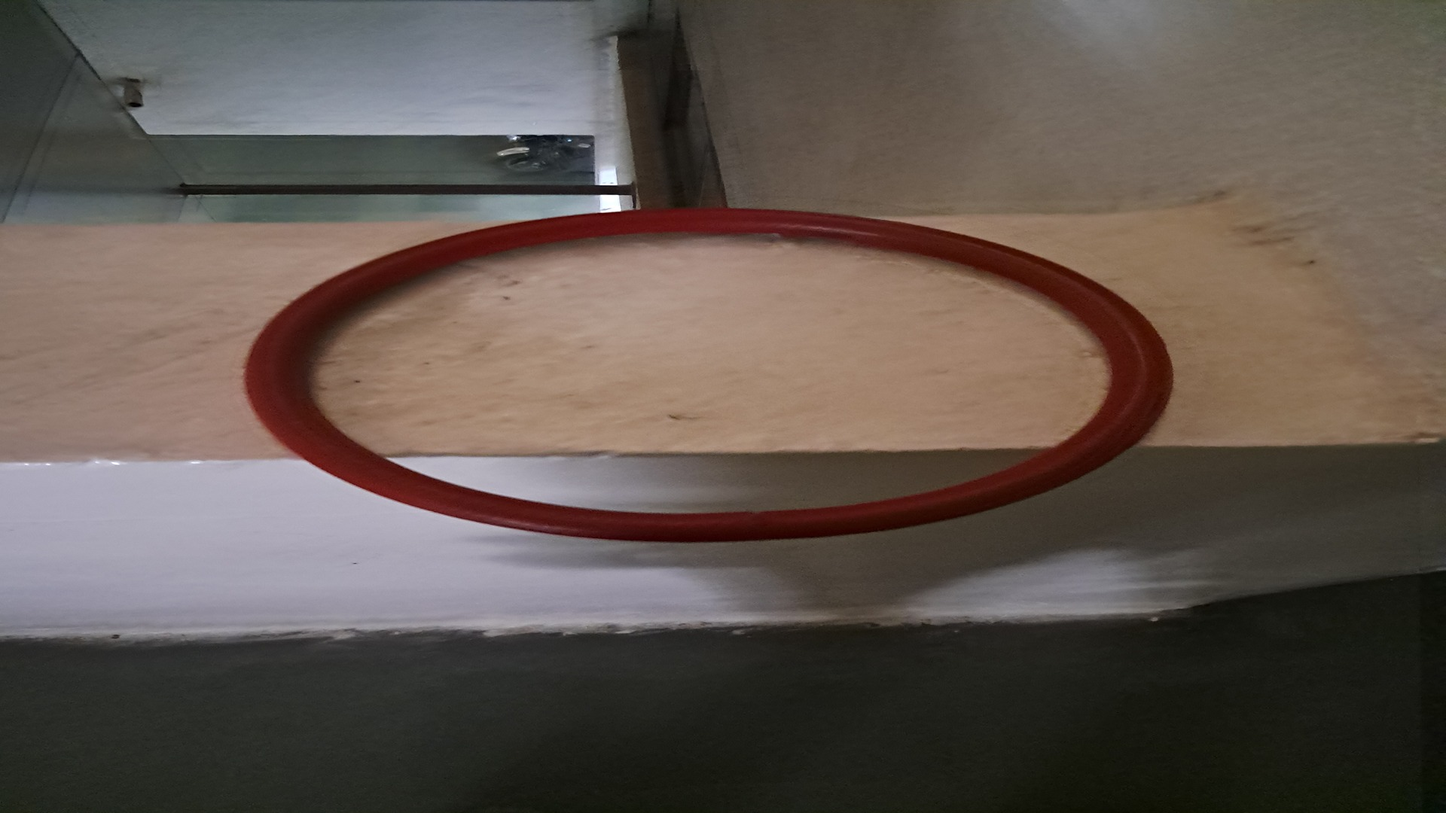Red ring: (251, 211, 1169, 543)
